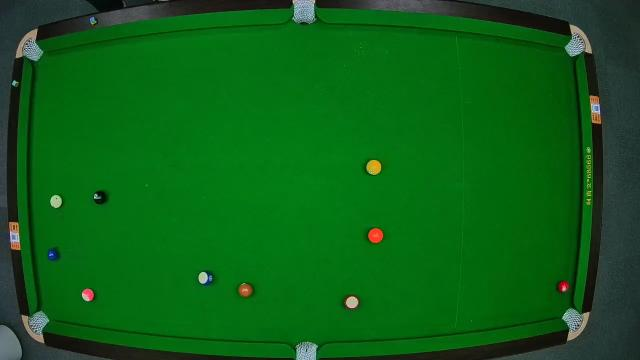bag1: (19, 36, 45, 64)
bag2: (292, 0, 316, 26)
bag3: (563, 30, 589, 57)
bag4: (25, 309, 51, 339)
bag5: (294, 340, 318, 360)
bag6: (560, 306, 586, 334)
ball0: (48, 193, 64, 209)
ball1: (366, 160, 382, 176)
ball10: (198, 270, 215, 288)
ball11: (344, 294, 360, 312)
ball12: (80, 287, 96, 303)
ball2: (46, 246, 60, 264)
ball3: (554, 278, 570, 294)
ball5: (368, 229, 384, 245)
ball7: (237, 282, 253, 298)
ball8: (92, 190, 108, 207)
